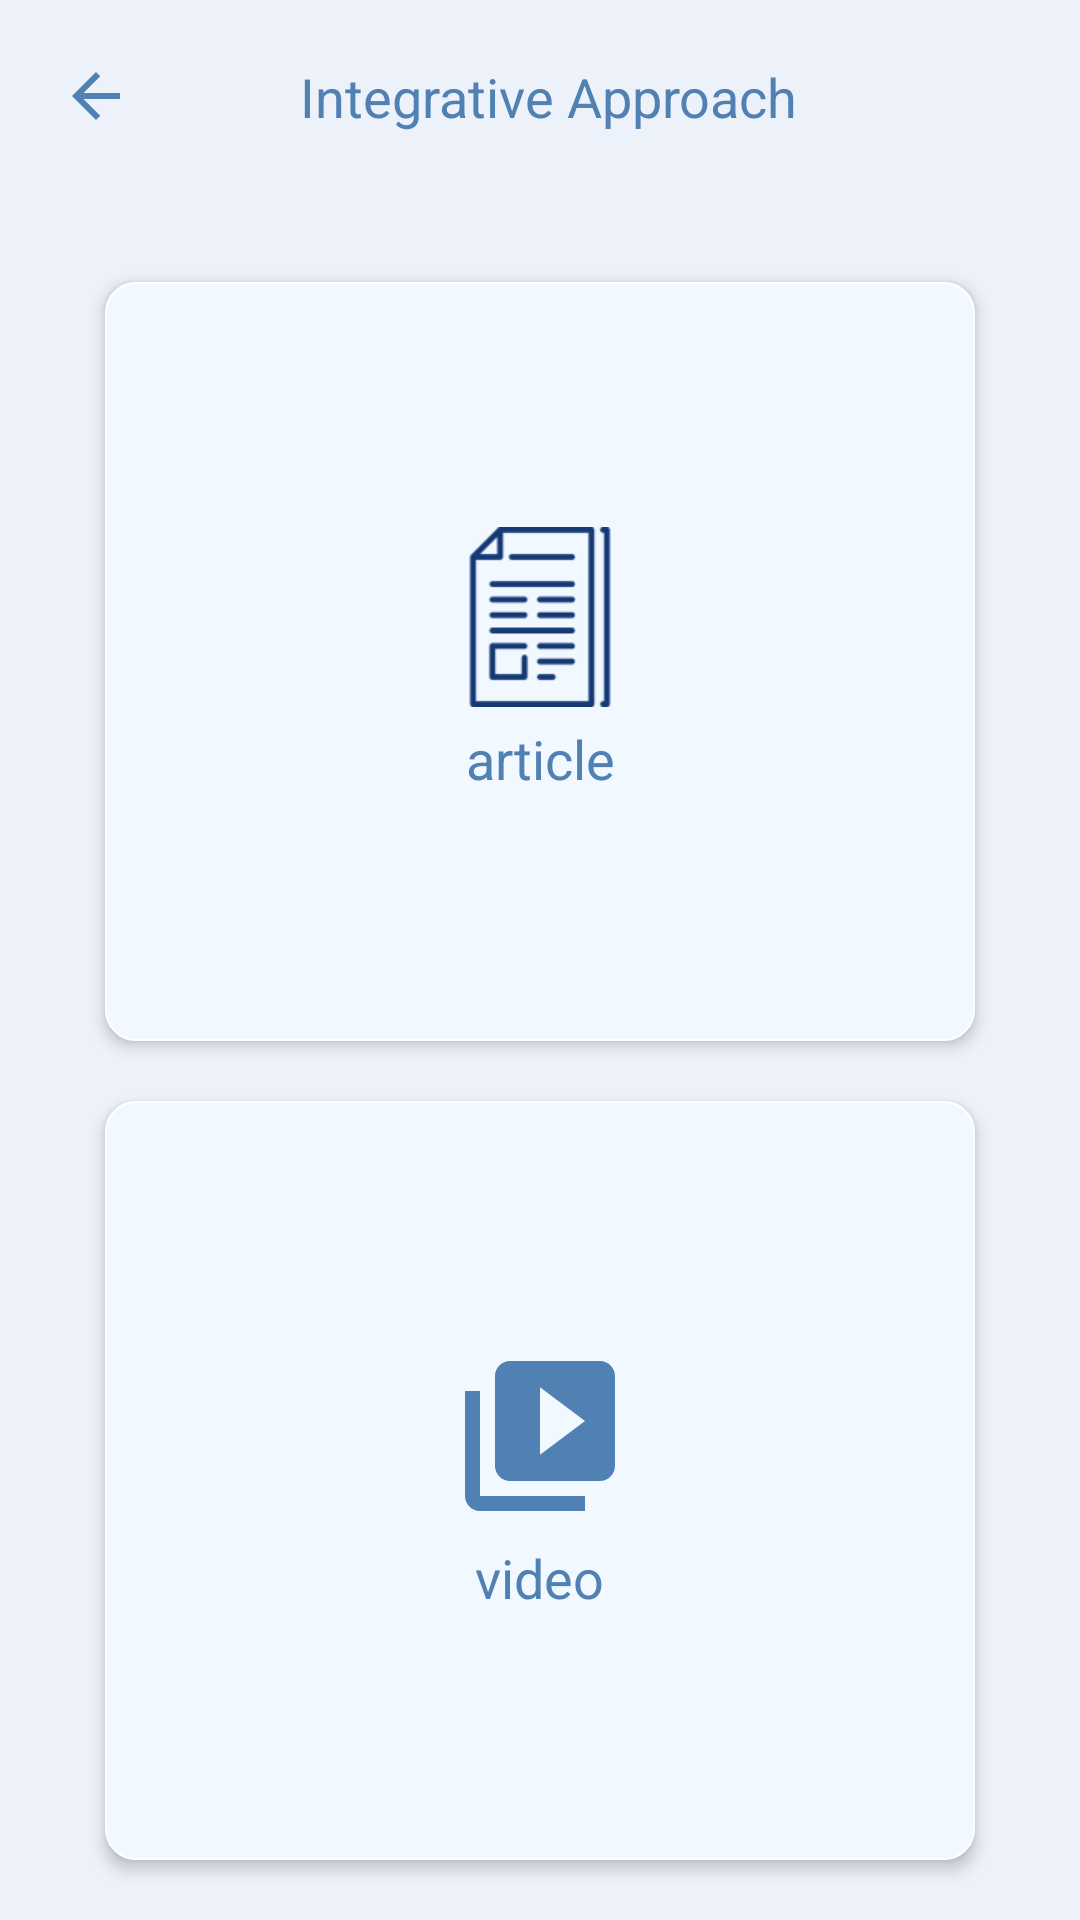

Named icons in this screenshot (1080×1920) and their bounding boxes, bbox=[x1, y1, x2, y2]:
arrow back: bbox=[72, 72, 120, 120]
